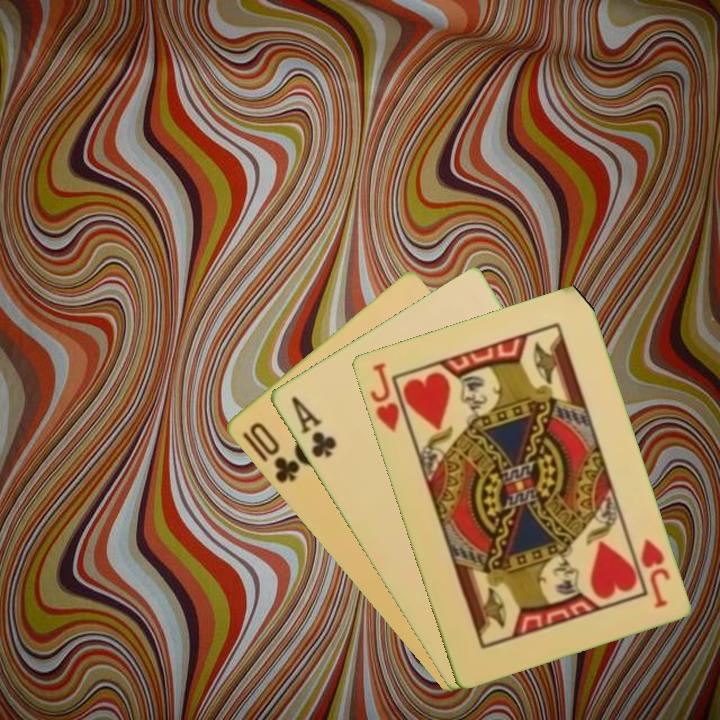10c: (245, 418, 303, 486)
Ac: (287, 392, 339, 461)
Jh: (636, 534, 673, 611), (366, 358, 402, 435)
